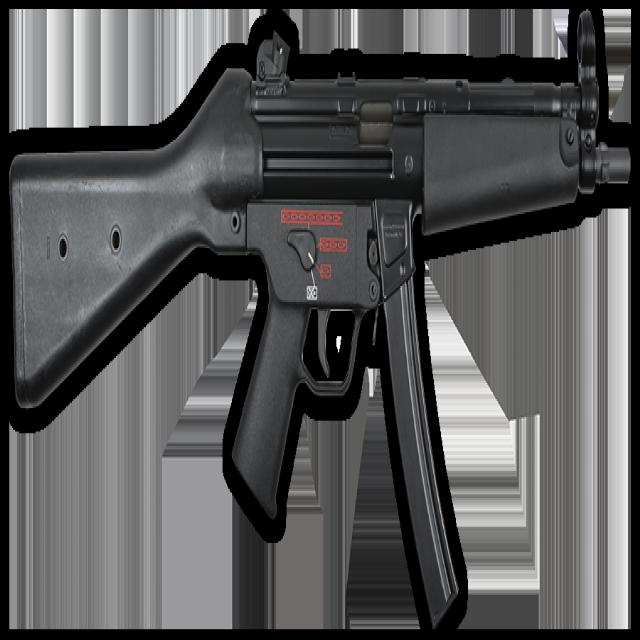Weapon: (9, 2, 637, 622)
